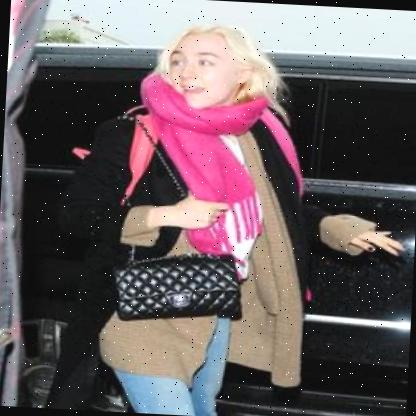bag: (101, 240, 256, 334)
person: (73, 11, 361, 416)
